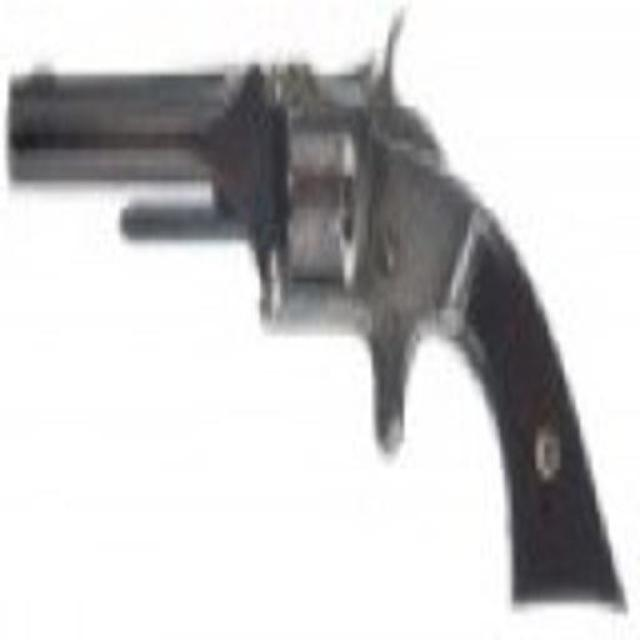pistol: (3, 26, 631, 607)
